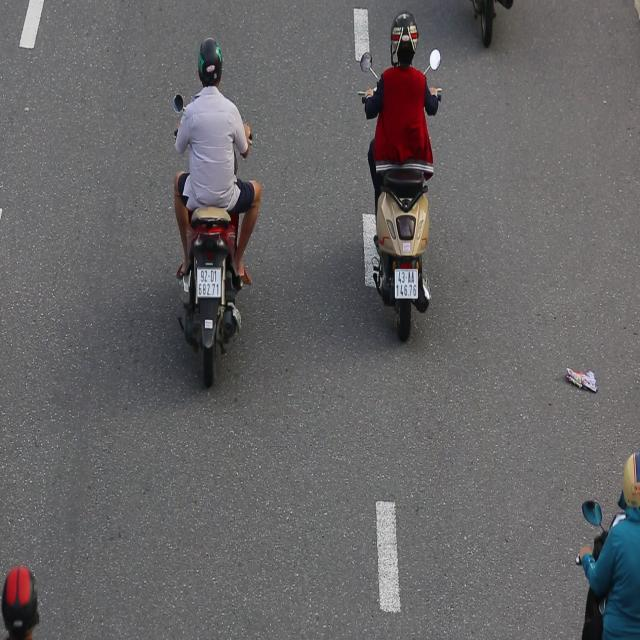motorbike: (168, 33, 260, 396), (360, 10, 447, 352)
